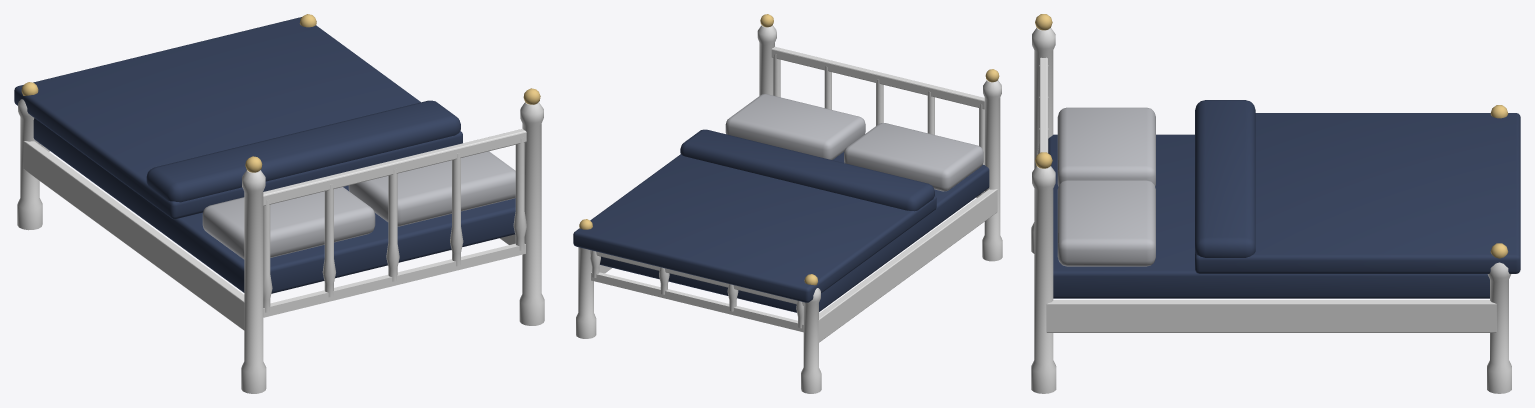
Rendered from toy_bed.fbx.
3 renders of one model, left to right at view 1: azimuth 30°, elevation 25°; view 2: azimuth 150°, elevation 25°; view 3: azimuth 270°, elevation 25°, orthographic. The views are drawn at different scales.
Visible parts, largest first — view 1: feltblue_1, walnut_1, cotton_1, brass_1; view 2: feltblue_1, walnut_1, cotton_1, brass_1; view 3: feltblue_1, walnut_1, cotton_1, brass_1.
Part boxes in pixels (left/top/right/bottom): feltblue_1: left=14, top=17, right=515, bottom=293; walnut_1: left=17, top=99, right=544, bottom=393; cotton_1: left=202, top=151, right=515, bottom=259; brass_1: left=21, top=14, right=540, bottom=172; feltblue_1: left=573, top=129, right=989, bottom=312; walnut_1: left=576, top=25, right=1002, bottom=393; cotton_1: left=725, top=94, right=983, bottom=191; brass_1: left=579, top=14, right=999, bottom=285; feltblue_1: left=1048, top=100, right=1520, bottom=298; walnut_1: left=1031, top=28, right=1511, bottom=393; cotton_1: left=1057, top=107, right=1155, bottom=266; brass_1: left=1035, top=14, right=1508, bottom=258.
Size of the model in its own units: 3.62 by 2.67 by 5.03.
